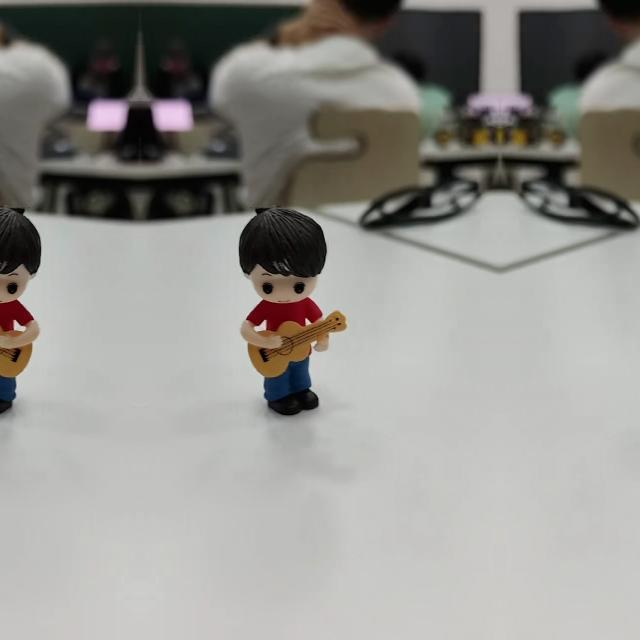man cloth: (245, 294, 323, 332), (0, 294, 35, 331)
man head: (238, 198, 329, 306), (0, 198, 41, 305)
trousers: (265, 357, 319, 415), (0, 357, 15, 415)
